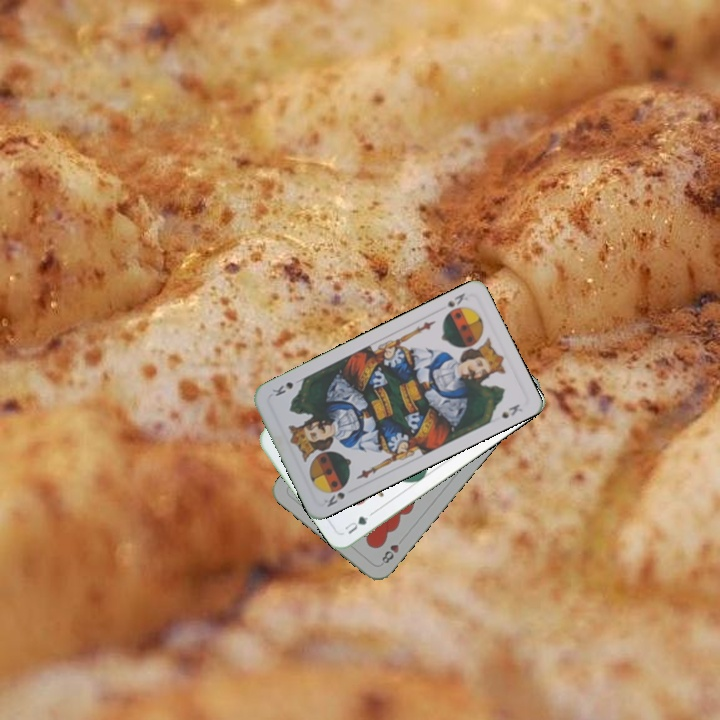GU: (340, 512, 371, 537)
H8: (378, 533, 407, 566)
SK: (320, 488, 348, 510), (442, 289, 470, 310)
